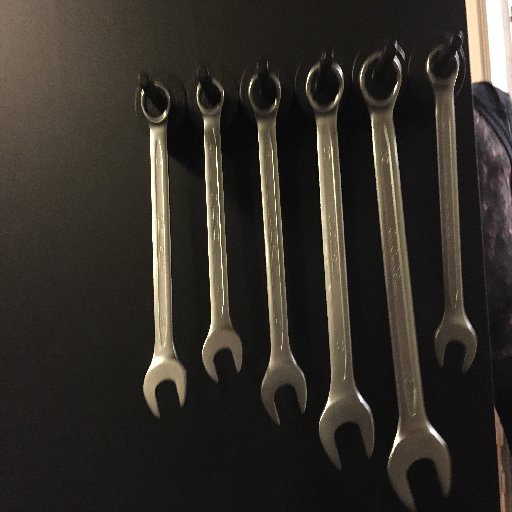bottom: (384, 425, 453, 511), (316, 394, 375, 473), (259, 358, 309, 427), (140, 355, 189, 418), (432, 314, 479, 374), (200, 326, 244, 383)
top: (358, 49, 403, 113), (303, 59, 346, 117), (245, 71, 284, 118), (423, 43, 462, 90), (138, 78, 175, 127), (194, 76, 228, 116)
